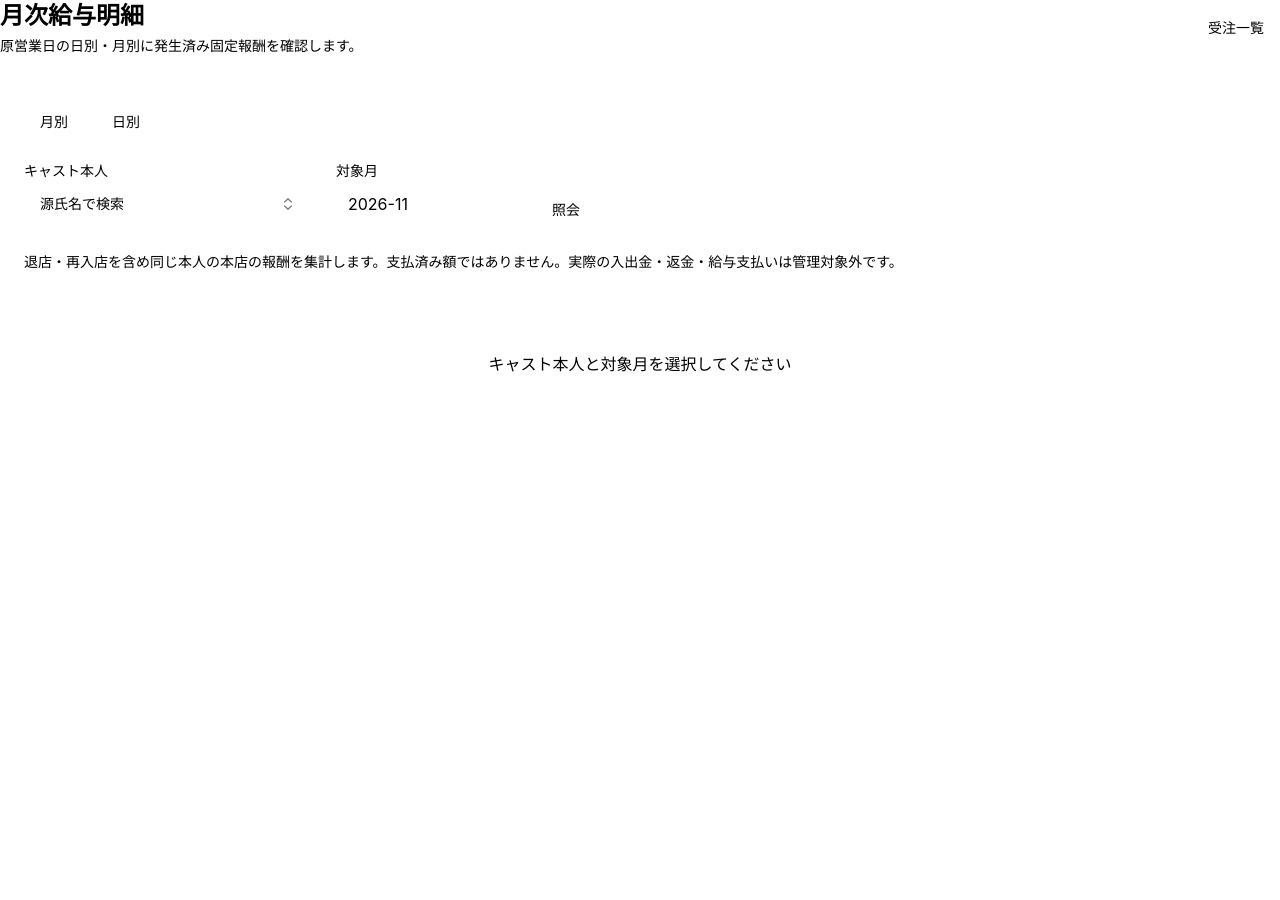
Test case: store の月次 PDF ライフサイクル › 照会が閲覧不可になったら旧要求を中止し成果物を残さない
Click the dropdown named "キャスト本人" at x=82, y=204, box [24, 186, 312, 222]
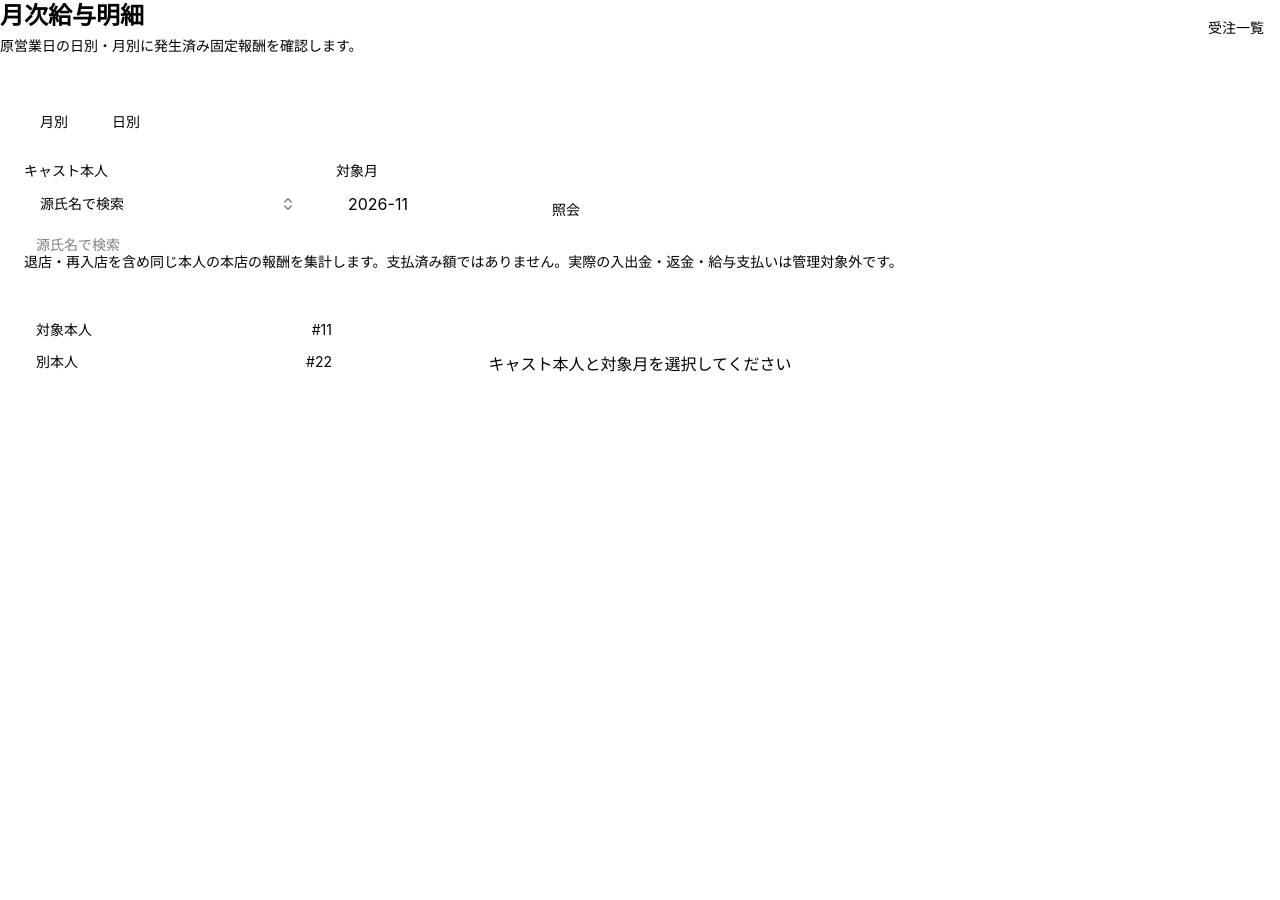
Click the option "対象本人 #11" at x=64, y=330, box [36, 321, 332, 338]
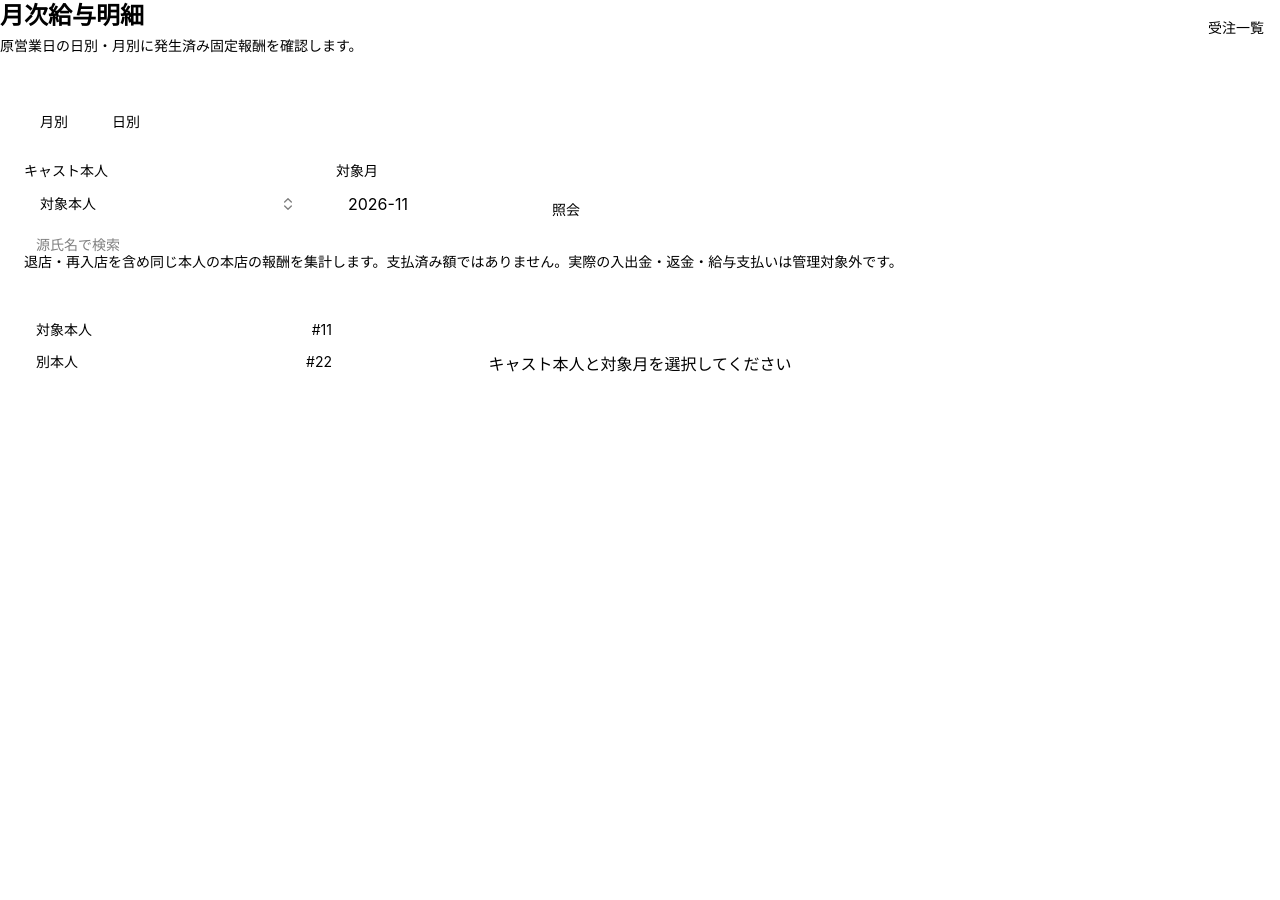
Replace the text in the field labelled "対象月" with "2026-09" at x=424, y=204, box [336, 186, 512, 222]
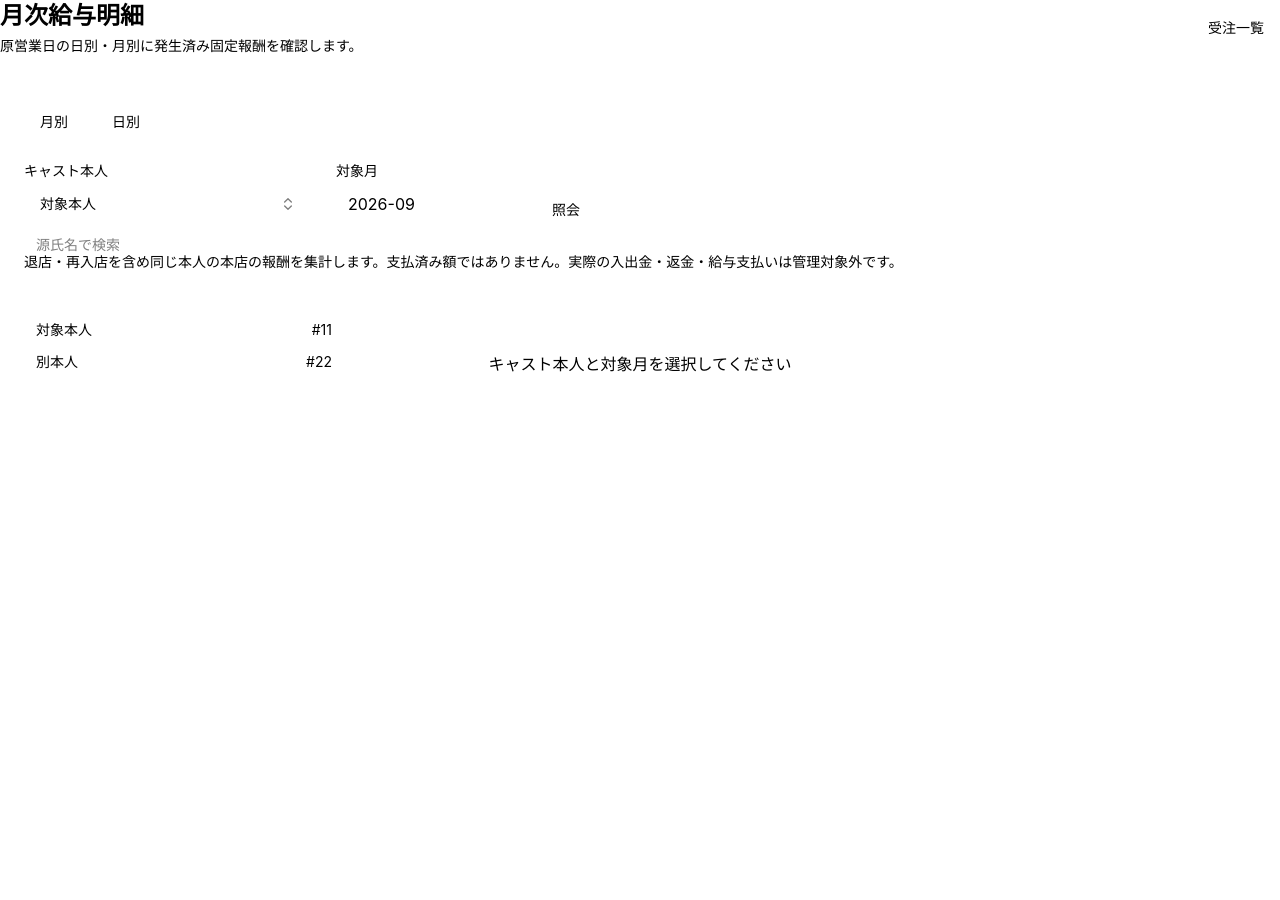
Click the button "照会" at x=566, y=210, box [536, 192, 596, 228]
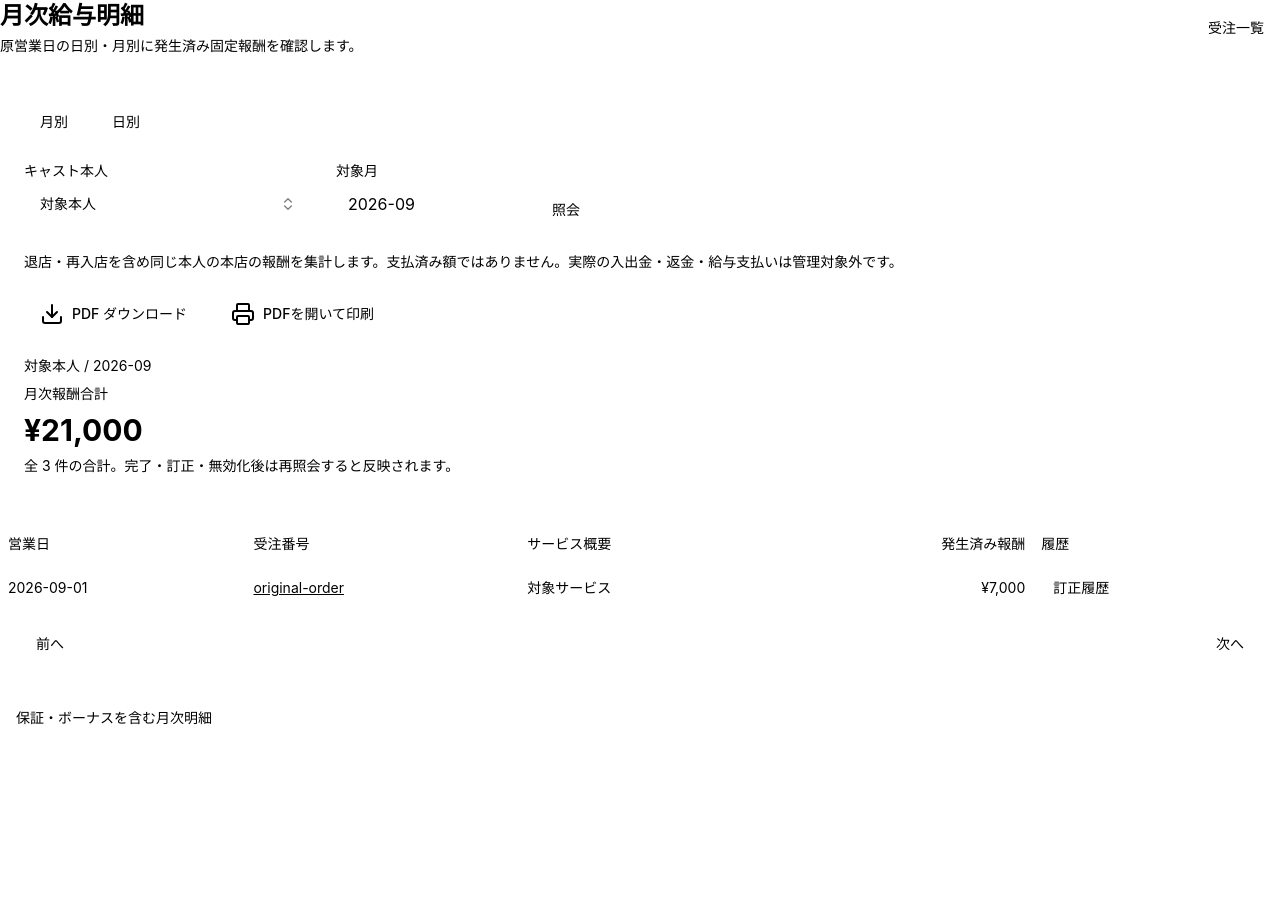
Check: the text named "月次報酬合計" is shown, box [24, 412, 143, 448]
Click the button "PDF ダウンロード" at x=114, y=314, box [24, 296, 203, 332]
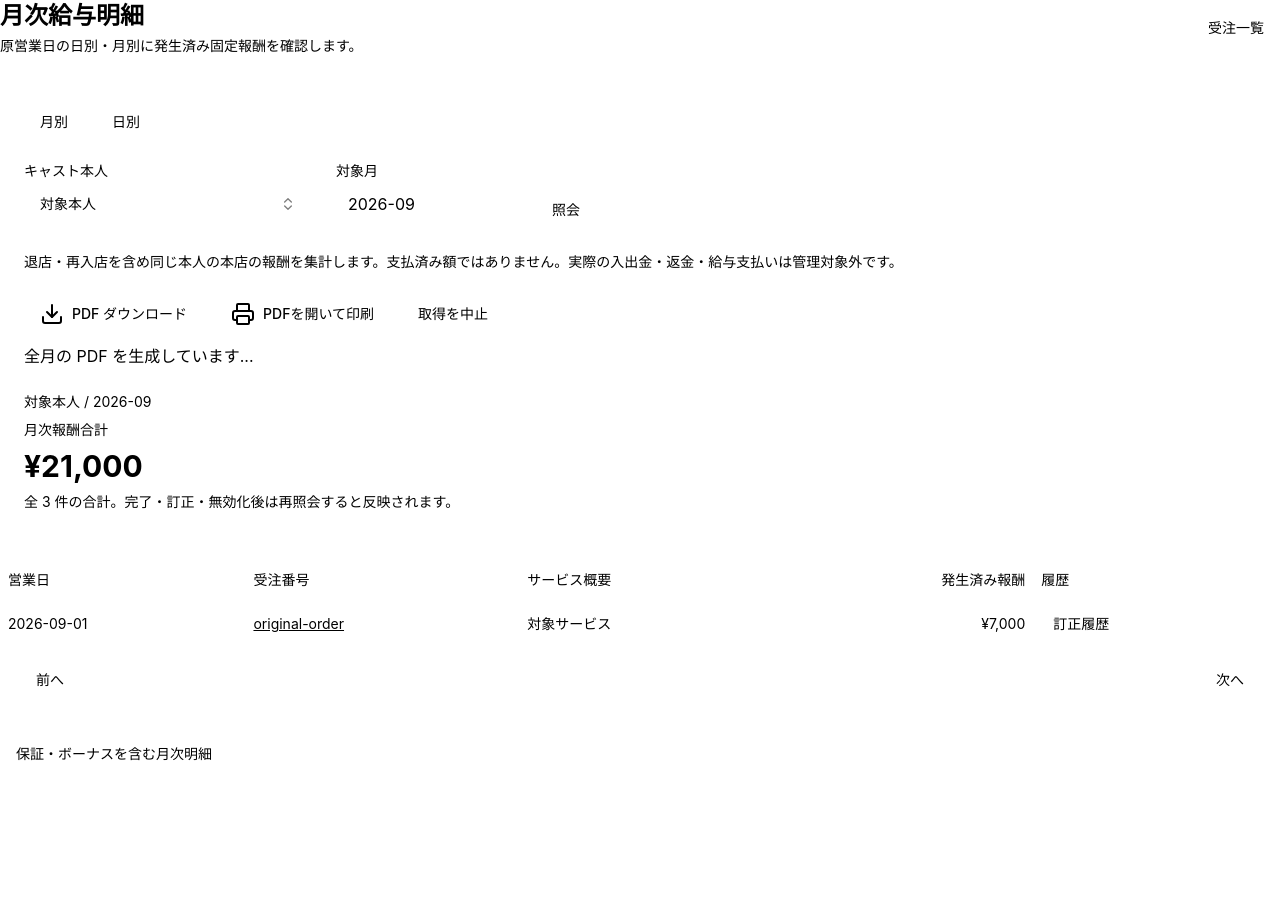
Click the button "次へ" at x=1230, y=680, box [1204, 664, 1256, 696]
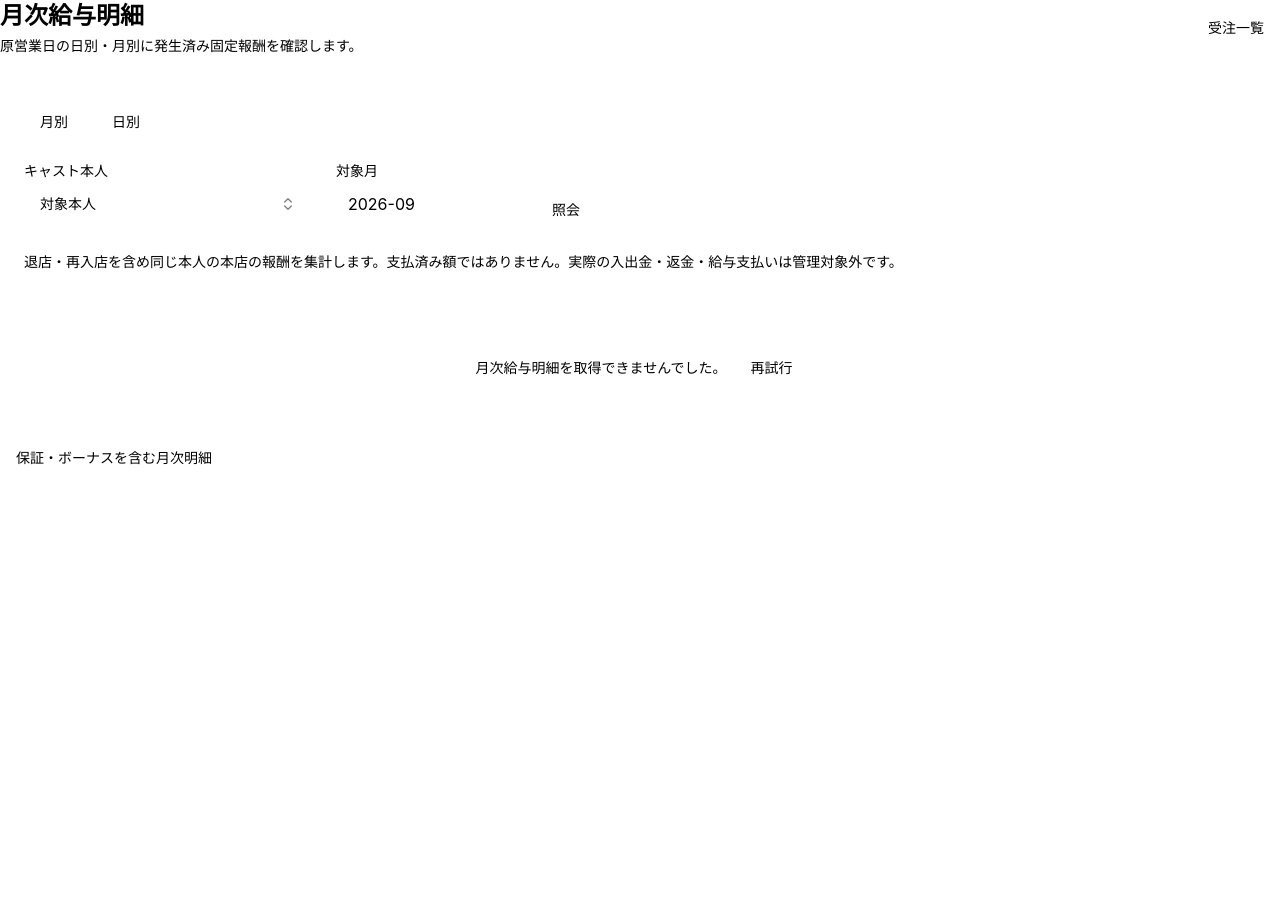
Check: the button "PDF ダウンロード" is gone
